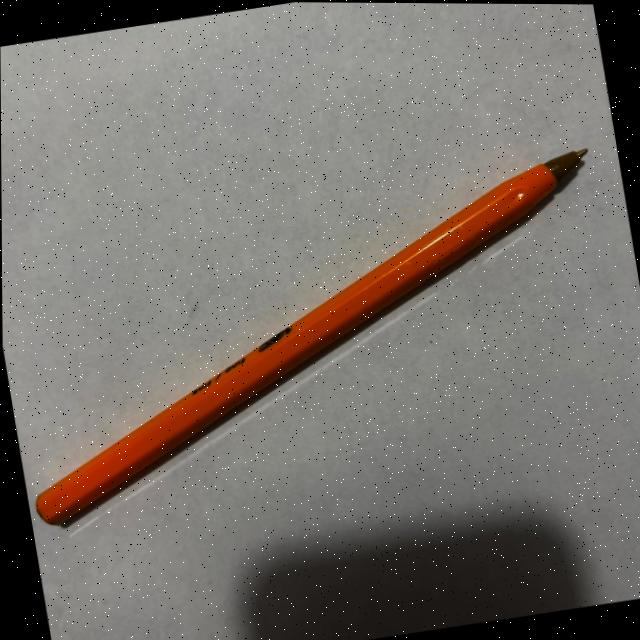pencil: (34, 148, 590, 531)
